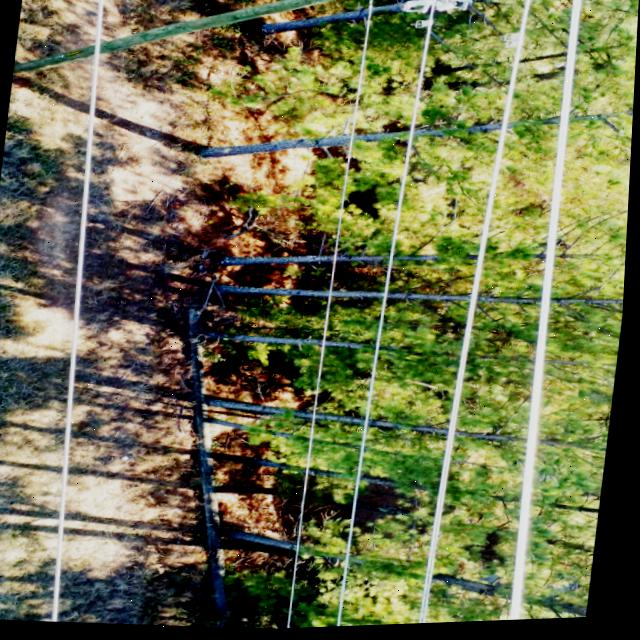wires: (424, 0, 531, 627), (515, 0, 582, 624), (54, 0, 103, 622), (342, 298, 390, 629), (387, 0, 437, 297), (293, 345, 329, 631), (344, 0, 374, 138), (333, 141, 355, 257), (325, 262, 339, 345)
